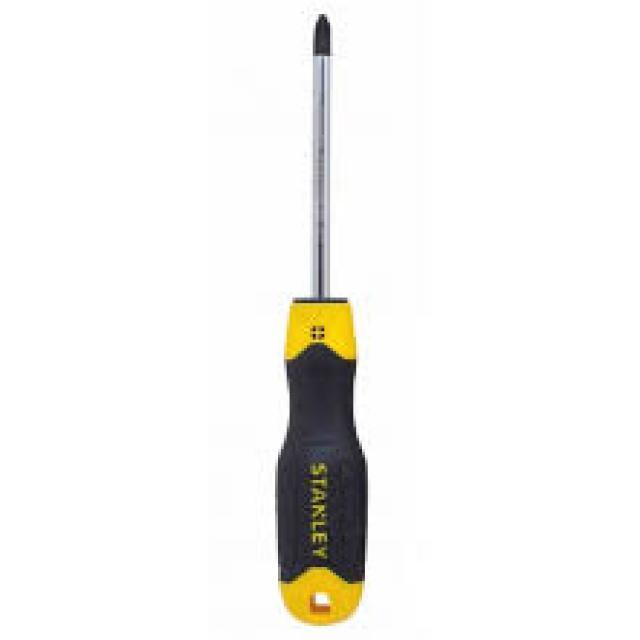screwdriver: (275, 6, 368, 628)
